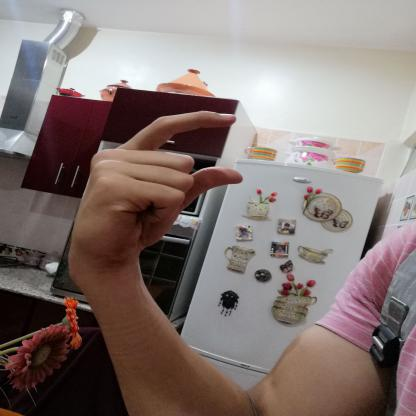DELL: (55, 105, 256, 274)
